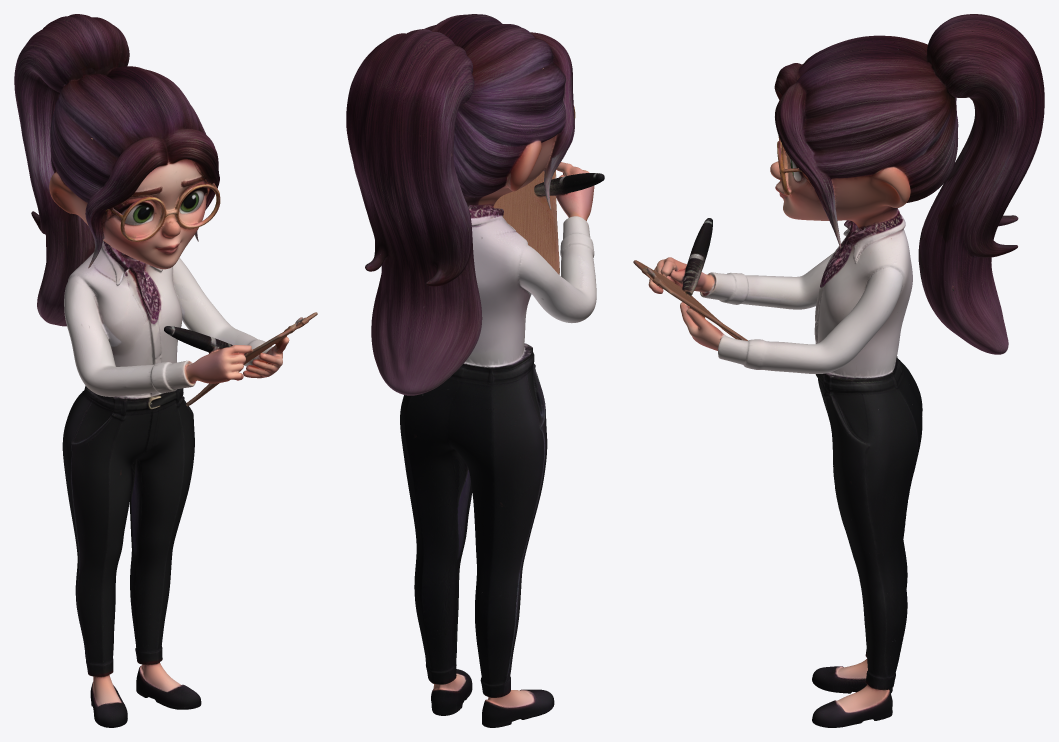
Rendered from perfectionist.glb.
The picture shows the model from 3 angles, left to right: view 1: azimuth 30°, elevation 25°; view 2: azimuth 150°, elevation 25°; view 3: azimuth 270°, elevation 25°; orthographic projection. The views are drawn at different scales.
Bounding box in the file's own units: 0.5193 × 1.9 × 1.03.
Materials: 1 (1 with a texture image).
